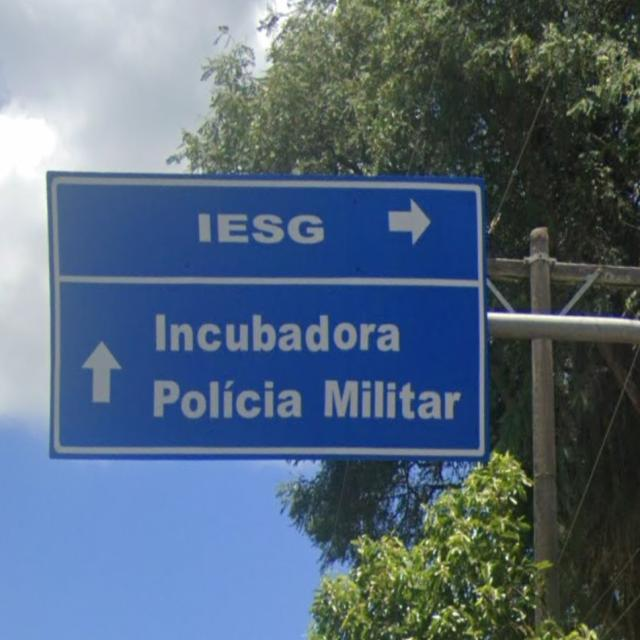indication: (24, 148, 512, 504)
